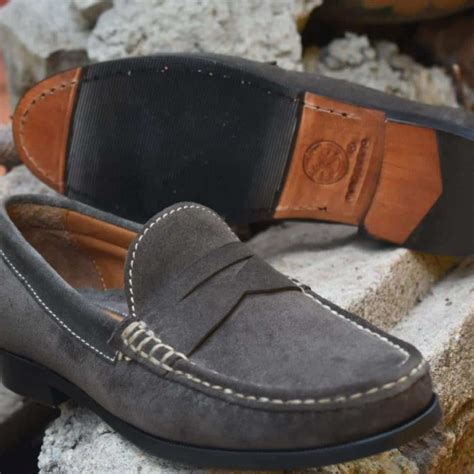gamuza: (2, 193, 432, 455)
